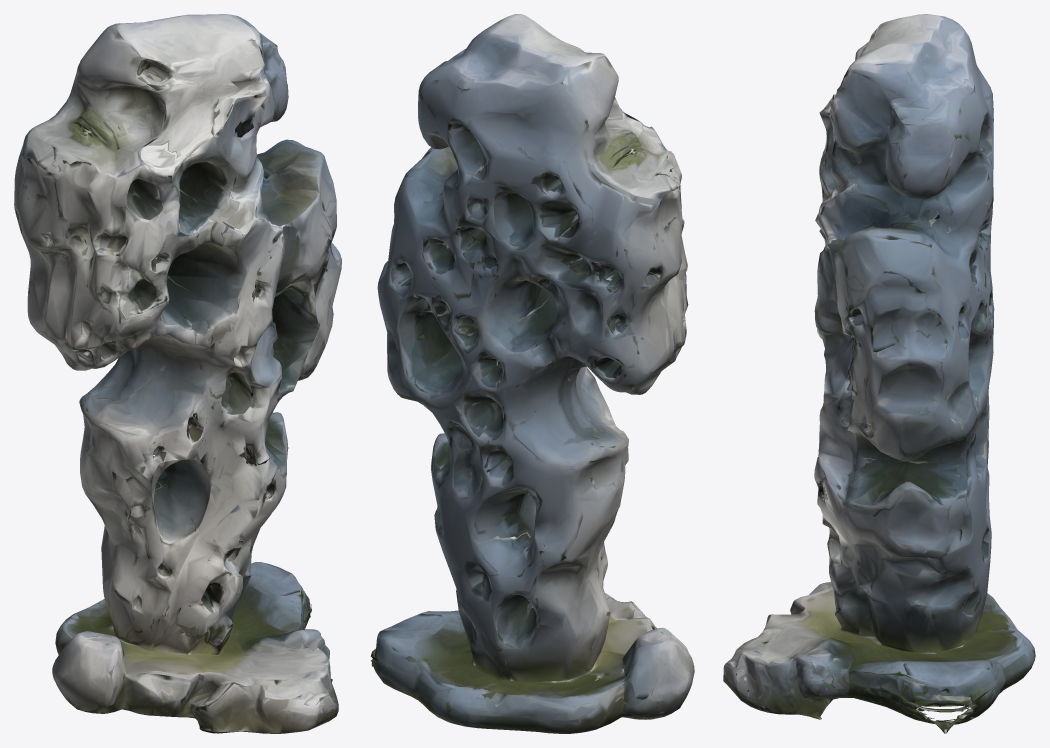
File: taihuRock-compressed.glb
3 renders of one model, left to right at view 1: azimuth 30°, elevation 25°; view 2: azimuth 150°, elevation 25°; view 3: azimuth 270°, elevation 25°, orthographic. The views are drawn at different scales.
Visible parts, largest first — view 1: node_0; view 2: node_0; view 3: node_0.
Part boxes in pixels (left/top/right/bottom): node_0: left=14, top=14, right=341, bottom=733; node_0: left=370, top=14, right=694, bottom=733; node_0: left=723, top=14, right=1035, bottom=733.
Bounding box in the file's own units: 0.7128 × 1.5 × 0.6655.
Materials: 1 (1 with a texture image).
